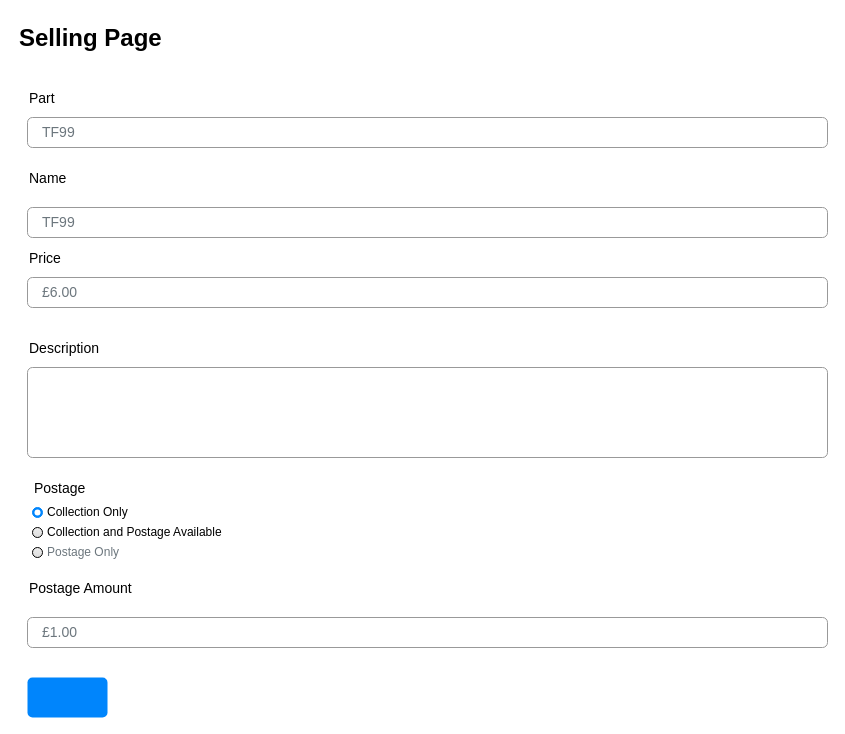
Some shapes in this 845 by 734 pixel diagram are drawn without their labels. The shapes that lost their labels are listed below. From the top down, each one's box as (x1, y1, x2, y2) in pixels, then its label:
(26, 366, 828, 458): Genuine Terrafirma Recovery boards
(27, 677, 107, 717): Add Part
